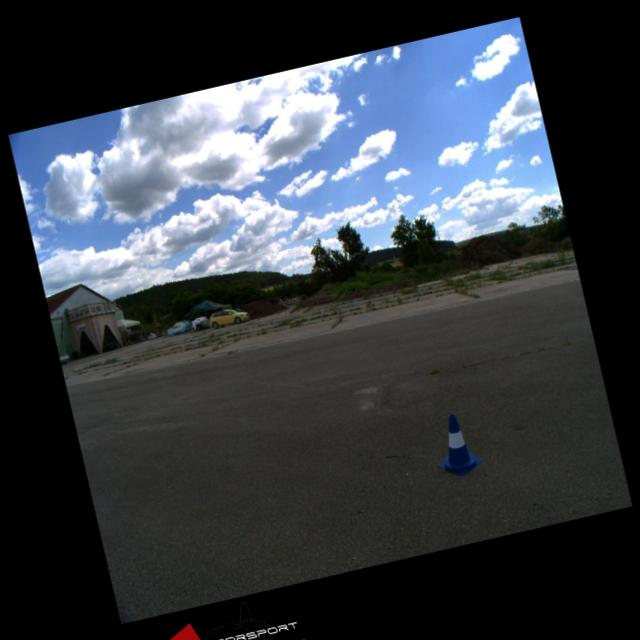blue_cone: (428, 409, 483, 478)
